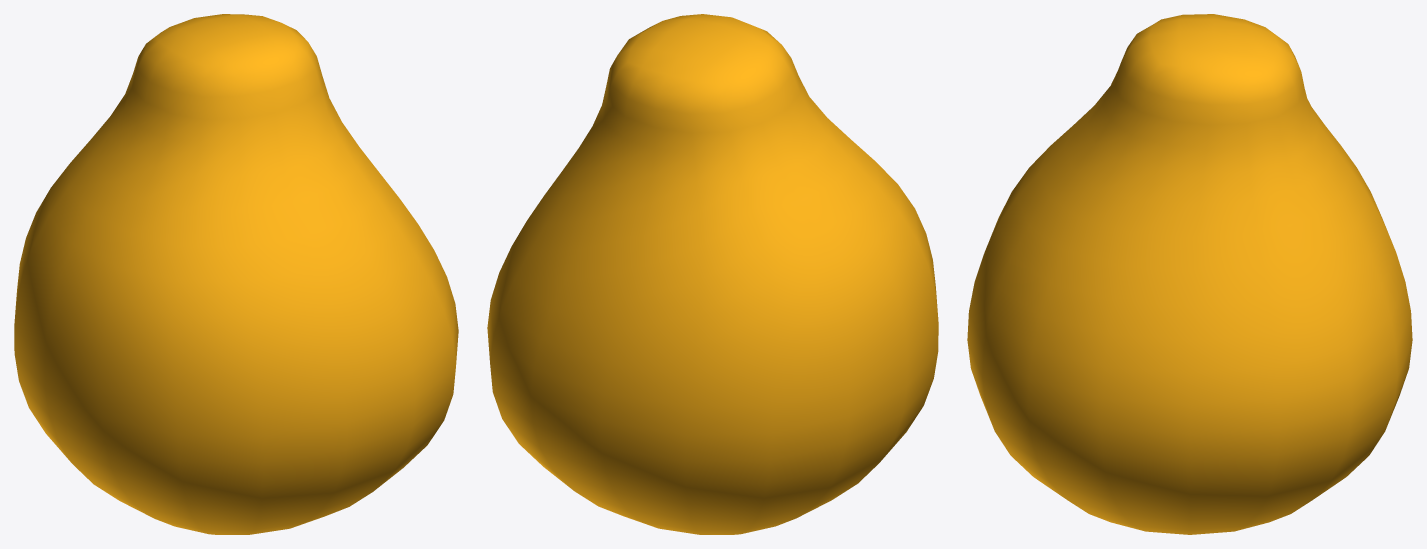
Rendered from FruitMagisteria.fbx.
3 renders of one model, left to right at view 1: azimuth 30°, elevation 25°; view 2: azimuth 150°, elevation 25°; view 3: azimuth 270°, elevation 25°, orthographic.
Visible parts, largest first — view 1: Плоскость.002; view 2: Плоскость.002; view 3: Плоскость.002.
Part boxes in pixels (<box>): Плоскость.002: <box>14,14,458,534</box>; Плоскость.002: <box>487,14,938,534</box>; Плоскость.002: <box>967,14,1412,534</box>.
Size of the model in its own units: 32.21 by 38.59 by 32.17.
